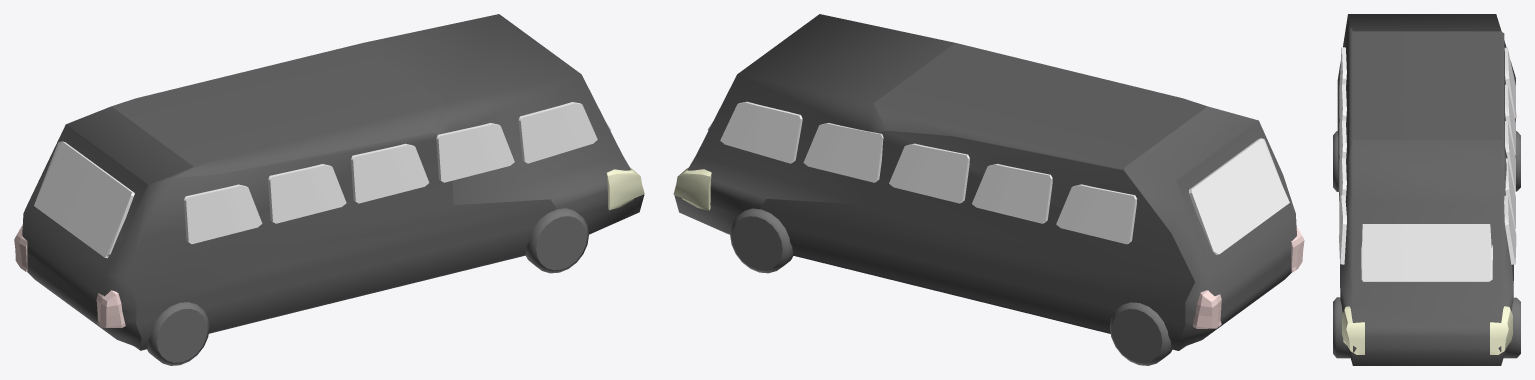
File: CarroNegro.fbx
3 views of the same model, side by side, from view 1: azimuth 30°, elevation 25°; view 2: azimuth 150°, elevation 25°; view 3: azimuth 270°, elevation 25° (orthographic). The views are drawn at different scales.
Visible parts, largest first — view 1: pCube1, pCube10, pCube8, pCube13, pCube14, pCube12, pasted__pCube8, pCylinder1, pCylinder2, pCube11, pCube9; view 2: pCube1, pCube10, pasted__pasted__pCube12, pasted__pCube17, pasted__pCube15, pasted__pCube16, pasted__pCube12, pCylinder3, pCylinder4, pCube11, pCube9; view 3: pCube1, pCube6, pCube9, pCylinder1, pCylinder3, pasted__pasted__pCube12, pasted__pCube8, pasted__pCube17, pasted__pCube15, pasted__pCube16, pasted__pCube12, pCylinder2 (+5 smaller).
Part boxes in pixels (bbox=[...]): pCube1: bbox=[22, 14, 644, 350]; pCube10: bbox=[34, 141, 134, 258]; pCube8: bbox=[436, 123, 514, 182]; pCube13: bbox=[268, 164, 346, 223]; pCube14: bbox=[184, 184, 262, 244]; pCube12: bbox=[351, 143, 429, 203]; pasted__pCube8: bbox=[518, 102, 597, 163]; pCylinder1: bbox=[526, 208, 588, 273]; pCylinder2: bbox=[147, 302, 209, 365]; pCube11: bbox=[14, 226, 125, 327]; pCube9: bbox=[606, 167, 644, 210]; pCube1: bbox=[674, 14, 1296, 350]; pCube10: bbox=[1189, 138, 1289, 254]; pasted__pasted__pCube12: bbox=[720, 101, 802, 163]; pasted__pCube17: bbox=[1056, 184, 1137, 244]; pasted__pCube15: bbox=[889, 143, 969, 203]; pasted__pCube16: bbox=[972, 163, 1052, 223]; pasted__pCube12: bbox=[803, 123, 883, 182]; pCylinder3: bbox=[730, 208, 793, 273]; pCylinder4: bbox=[1109, 302, 1172, 365]; pCube11: bbox=[1193, 227, 1304, 328]; pCube9: bbox=[673, 167, 711, 210]; pCube1: bbox=[1337, 14, 1515, 365]; pCube6: bbox=[1361, 224, 1492, 281]; pCube9: bbox=[1342, 306, 1512, 354]; pCylinder1: bbox=[1333, 297, 1350, 358]; pCylinder3: bbox=[1503, 297, 1520, 358]; pasted__pasted__pCube12: bbox=[1504, 195, 1516, 264]; pasted__pCube8: bbox=[1339, 195, 1346, 264]; pasted__pCube17: bbox=[1504, 47, 1515, 118]; pasted__pCube15: bbox=[1505, 120, 1515, 191]; pasted__pCube16: bbox=[1505, 84, 1515, 155]; pasted__pCube12: bbox=[1505, 158, 1515, 228]; pCylinder2: bbox=[1333, 131, 1338, 191].
Bounding box in the file's own units: 33.34 × 11.06 × 11.09.
